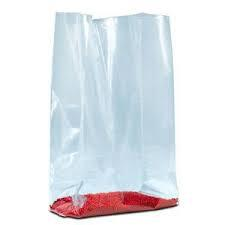Plastic: (44, 2, 190, 222)
